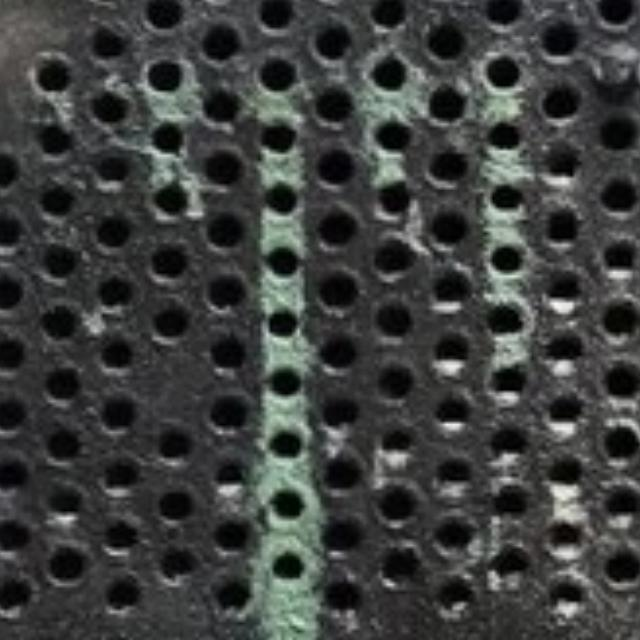Hole: (143, 236, 196, 286), (318, 576, 373, 622), (148, 418, 201, 465), (98, 569, 152, 615), (202, 205, 253, 253), (93, 450, 144, 496), (199, 270, 253, 313), (427, 80, 474, 128), (315, 266, 360, 316), (314, 201, 362, 247), (35, 424, 84, 469), (371, 238, 420, 283), (311, 83, 362, 126), (206, 328, 253, 374), (147, 295, 195, 340), (48, 544, 96, 589), (540, 82, 593, 122), (155, 538, 197, 588), (426, 207, 476, 249), (32, 52, 78, 97), (427, 19, 472, 65), (430, 573, 477, 617), (434, 453, 479, 498), (144, 50, 190, 94), (90, 331, 138, 373), (205, 391, 253, 433), (538, 18, 586, 60), (544, 138, 589, 182), (317, 454, 364, 496), (487, 543, 534, 585), (87, 272, 136, 312), (311, 25, 362, 63), (546, 570, 590, 614), (312, 144, 360, 184), (314, 334, 363, 373), (255, 53, 299, 96), (595, 173, 640, 215), (199, 89, 249, 126), (34, 300, 78, 342), (202, 146, 247, 187), (152, 483, 203, 519), (317, 391, 364, 430), (374, 484, 421, 523), (206, 575, 258, 610), (213, 516, 256, 558), (150, 178, 193, 220), (264, 362, 308, 403), (30, 116, 75, 156), (430, 144, 475, 184), (482, 53, 530, 90), (430, 332, 472, 374), (598, 294, 640, 336), (202, 19, 243, 62), (378, 545, 421, 586), (595, 237, 640, 276), (258, 426, 308, 461), (90, 392, 136, 430), (264, 547, 310, 585), (487, 242, 533, 280), (376, 422, 417, 464), (42, 363, 82, 406), (37, 478, 80, 518), (319, 516, 362, 556), (370, 53, 413, 93), (373, 177, 416, 217), (436, 389, 476, 432), (484, 179, 527, 219), (597, 425, 640, 465), (87, 25, 135, 60), (598, 360, 640, 400), (91, 213, 134, 252), (266, 243, 305, 286), (432, 270, 472, 311), (87, 148, 126, 190), (542, 328, 584, 367), (370, 299, 413, 337), (487, 118, 530, 156), (433, 512, 476, 550), (147, 119, 188, 158), (490, 304, 532, 342), (97, 513, 140, 550), (371, 365, 414, 402), (373, 117, 417, 153), (544, 520, 588, 556), (358, 0, 414, 28), (489, 362, 527, 403), (38, 183, 80, 220), (264, 486, 306, 523), (87, 90, 130, 126), (210, 456, 253, 492), (538, 206, 581, 242), (263, 178, 303, 216), (263, 122, 303, 160), (36, 245, 77, 282), (544, 389, 586, 425), (253, 0, 300, 32), (264, 306, 307, 340), (494, 480, 532, 518), (597, 116, 640, 149), (140, 0, 184, 32), (603, 544, 640, 582), (546, 452, 585, 488), (546, 272, 585, 306), (601, 482, 640, 514), (490, 426, 528, 458), (601, 0, 639, 30), (487, 0, 524, 25)
